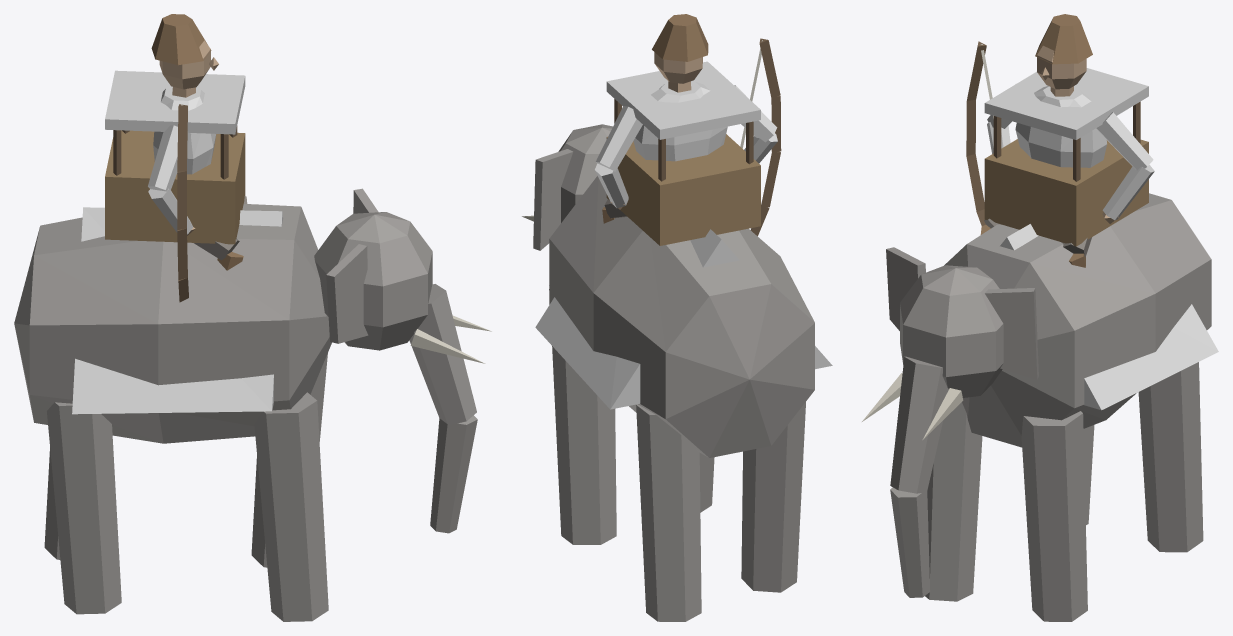
The model's file is war-elephant.glb.
3 renders of one model, left to right at view 1: azimuth 30°, elevation 25°; view 2: azimuth 150°, elevation 25°; view 3: azimuth 270°, elevation 25°, orthographic. The views are drawn at different scales.
Visible parts, largest first — view 1: LOD0; view 2: LOD0; view 3: LOD0.
Part boxes in pixels (box(x1,y1,x2,y2)): LOD0: box(14, 14, 491, 621); LOD0: box(522, 14, 832, 621); LOD0: box(862, 14, 1218, 621).
Size of what is drawn, in the model's own units: 1.15 by 1.61 by 0.9602.
